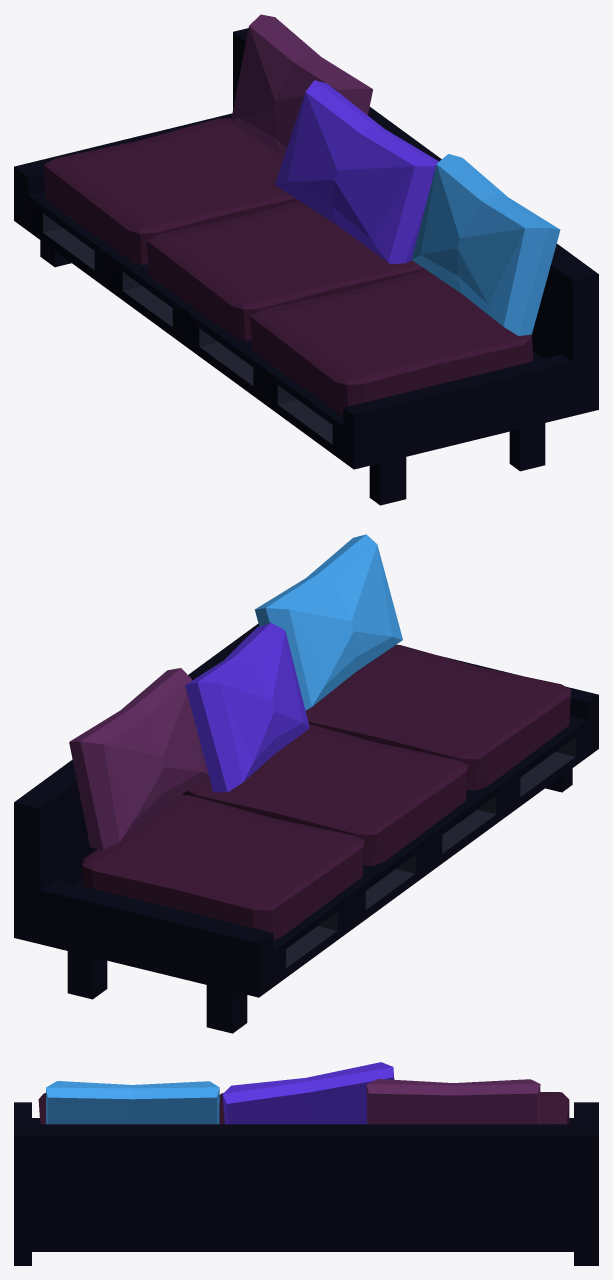
Rendered from RivenRoom_Darksofa.fbx.
3 renders of one model, top to bottom at view 1: azimuth 30°, elevation 25°; view 2: azimuth 150°, elevation 25°; view 3: azimuth 270°, elevation 25°, orthographic. The views are drawn at different scales.
Visible parts, largest first — view 1: Cube.126; view 2: Cube.126; view 3: Cube.126.
Part boxes in pixels (x1,y1,x2,y2): Cube.126: (14, 14, 598, 505); Cube.126: (14, 534, 598, 1033); Cube.126: (14, 1062, 598, 1265).
Bounding box in the file's own units: 89.87 × 79.26 × 216.
